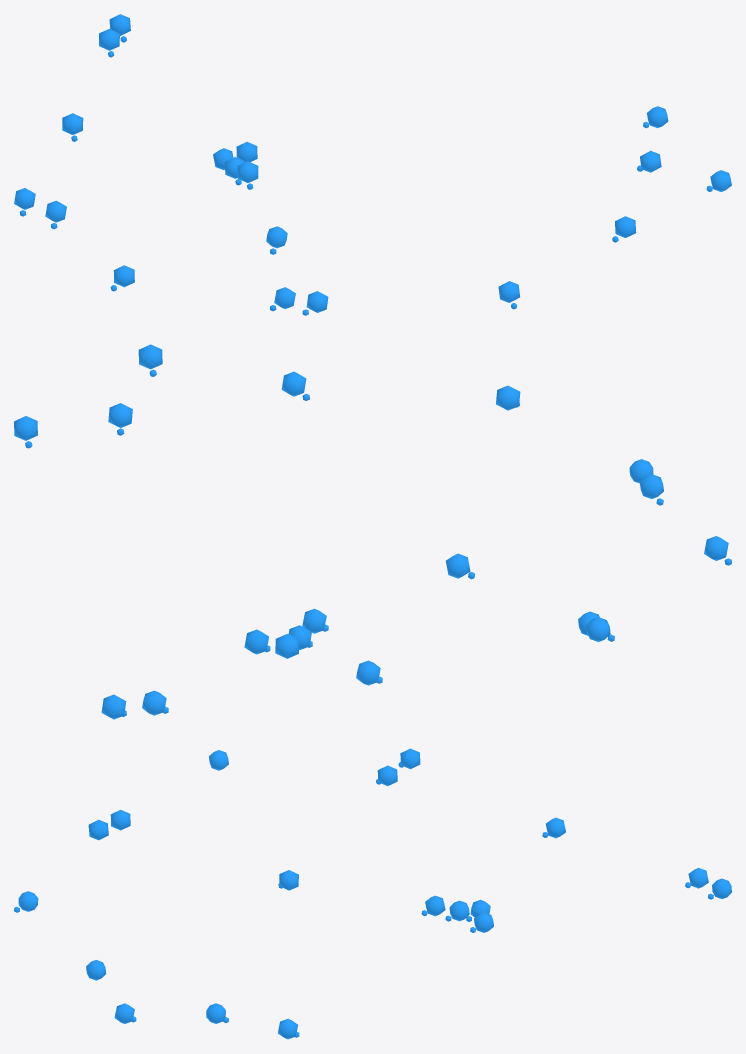
The model's file is model_chunk_13.glb.
The picture shows the model from 3 angles, top to bottom: view 1: azimuth 30°, elevation 25°; view 2: azimuth 150°, elevation 25°; view 3: azimuth 270°, elevation 25°; orthographic projection. The views are drawn at different scales.
Size of the model in its own units: 0.8406 by 0.0947 by 0.9357.
1 material, 1 textured.
